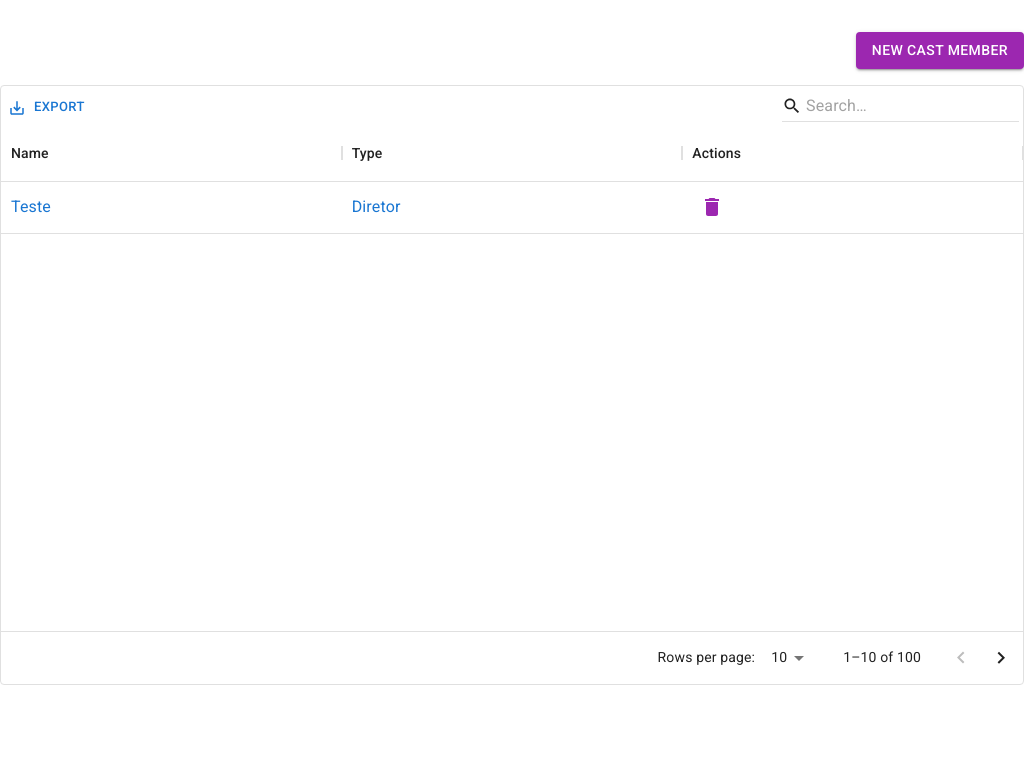
Test case: ListCastMembers › should handle Delete Cast Member error
Expected: the text "Teste" is shown, x1=11 y1=195 x2=51 y2=219
Click the button with test id "delete-button": (712, 207) x1=692 y1=187 x2=732 y2=227
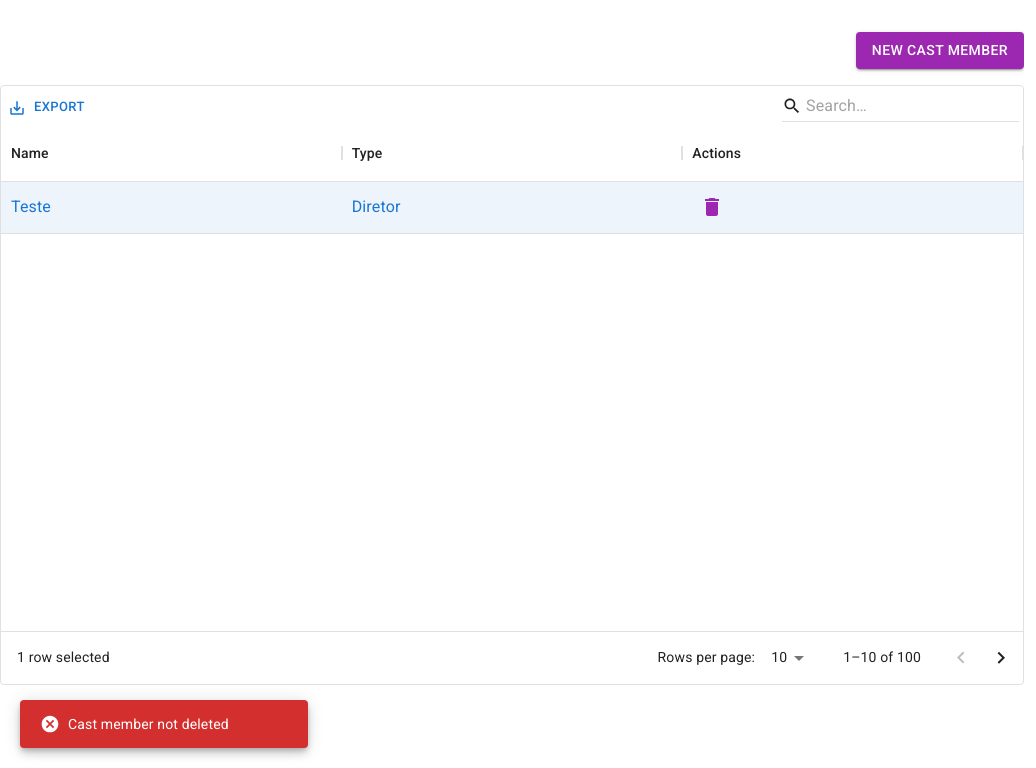
Expected: the text "Cast member not deleted" is shown, x1=40 y1=714 x2=229 y2=734
